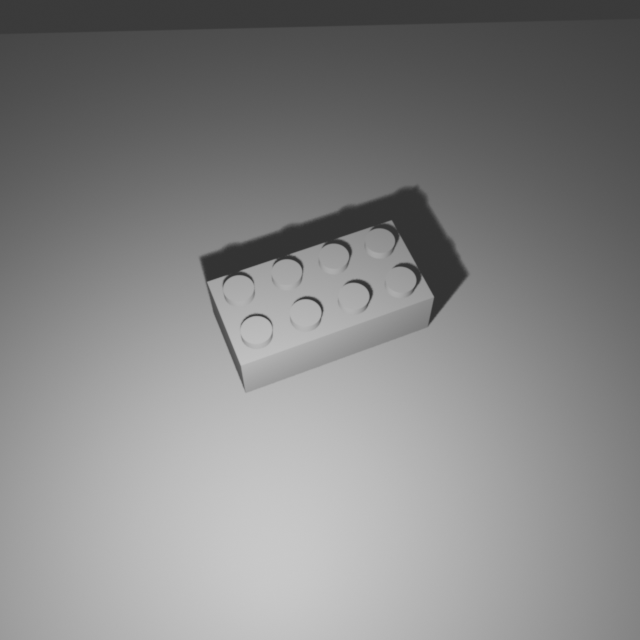lego_2x4: (206, 214, 435, 393)
